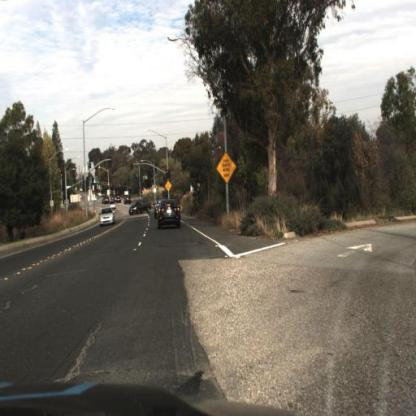car: (158, 201, 183, 233), (125, 196, 153, 220), (94, 204, 118, 230), (128, 198, 153, 218), (152, 196, 164, 220), (101, 208, 115, 226)
trafficLight-Red: (129, 155, 137, 179), (164, 165, 172, 183)
